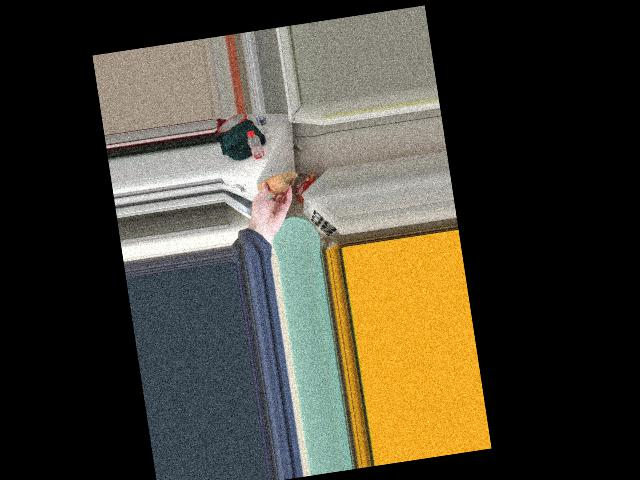sweet_potato: (258, 172, 291, 194)
